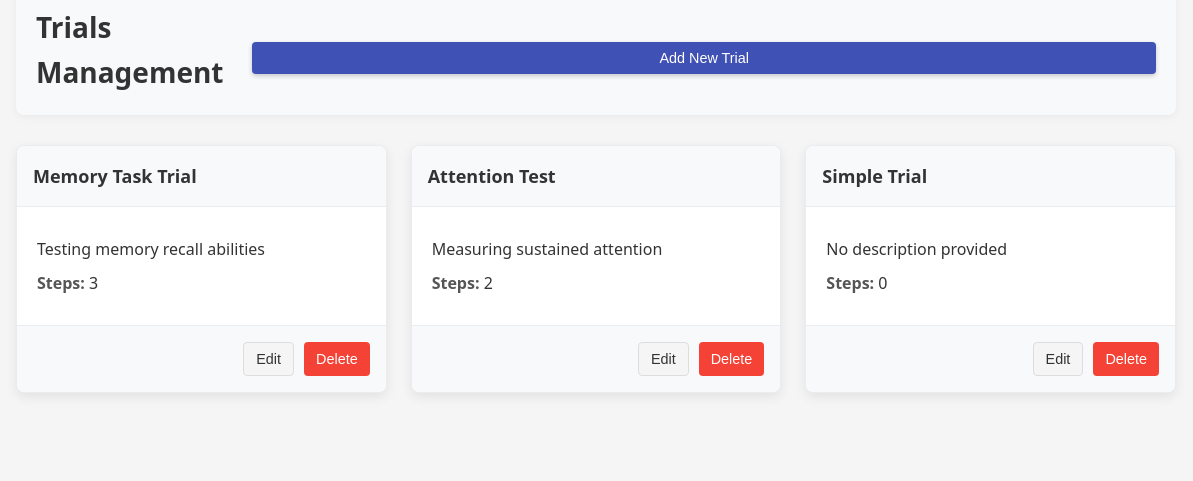
Test: Trials Component › Error Handling › displays error message when delete fails
Click the button "Delete" below "Testing memory recall abilities" at (337, 359), box [304,342,370,376]
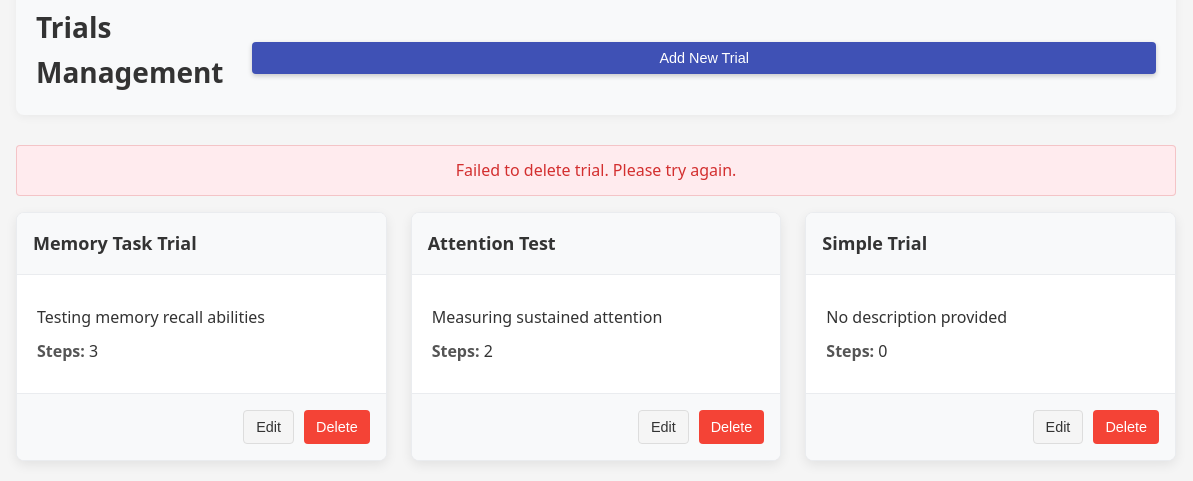
Expected: the text "Failed to delete trial. Please try again." is shown, [16,145,1176,196]
